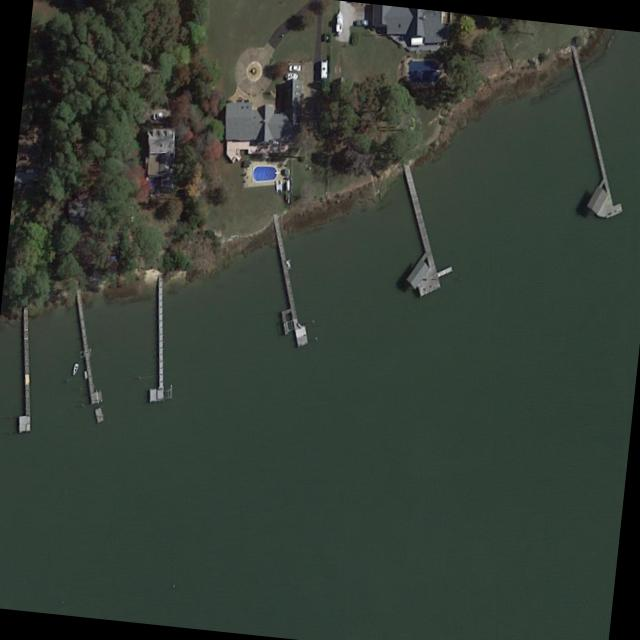ship: (67, 359, 80, 378), (335, 9, 342, 35), (284, 72, 298, 81)
small-vehicle: (319, 57, 327, 82), (286, 64, 301, 72), (152, 110, 164, 120)
